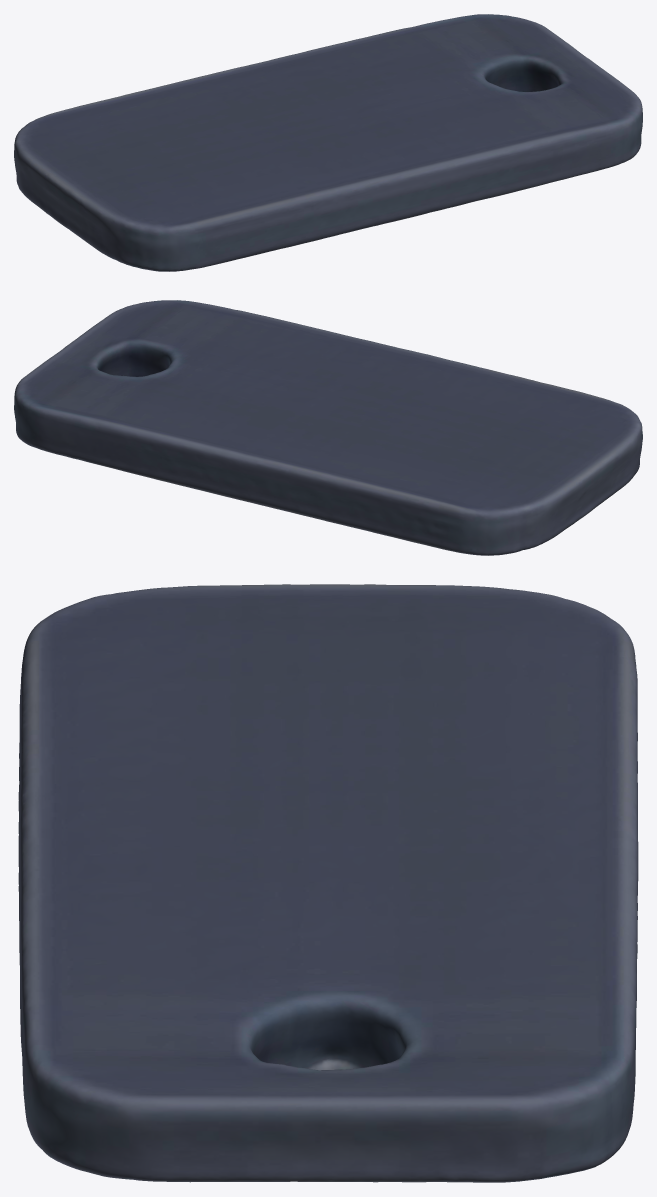
File: c90ee5e4c00f_tag__3d_asset_0_glb.fbx
3 views of the same model, one above another, from view 1: azimuth 30°, elevation 25°; view 2: azimuth 150°, elevation 25°; view 3: azimuth 270°, elevation 25° (orthographic). The views are drawn at different scales.
Visible parts, largest first — view 1: high_poly; view 2: high_poly; view 3: high_poly.
Part boxes in pixels (x1,y1,x2,y2): high_poly: [14, 14, 642, 271]; high_poly: [14, 300, 642, 555]; high_poly: [18, 584, 638, 1182].
Size of the model in its own units: 100 by 8.67 by 50.58.
